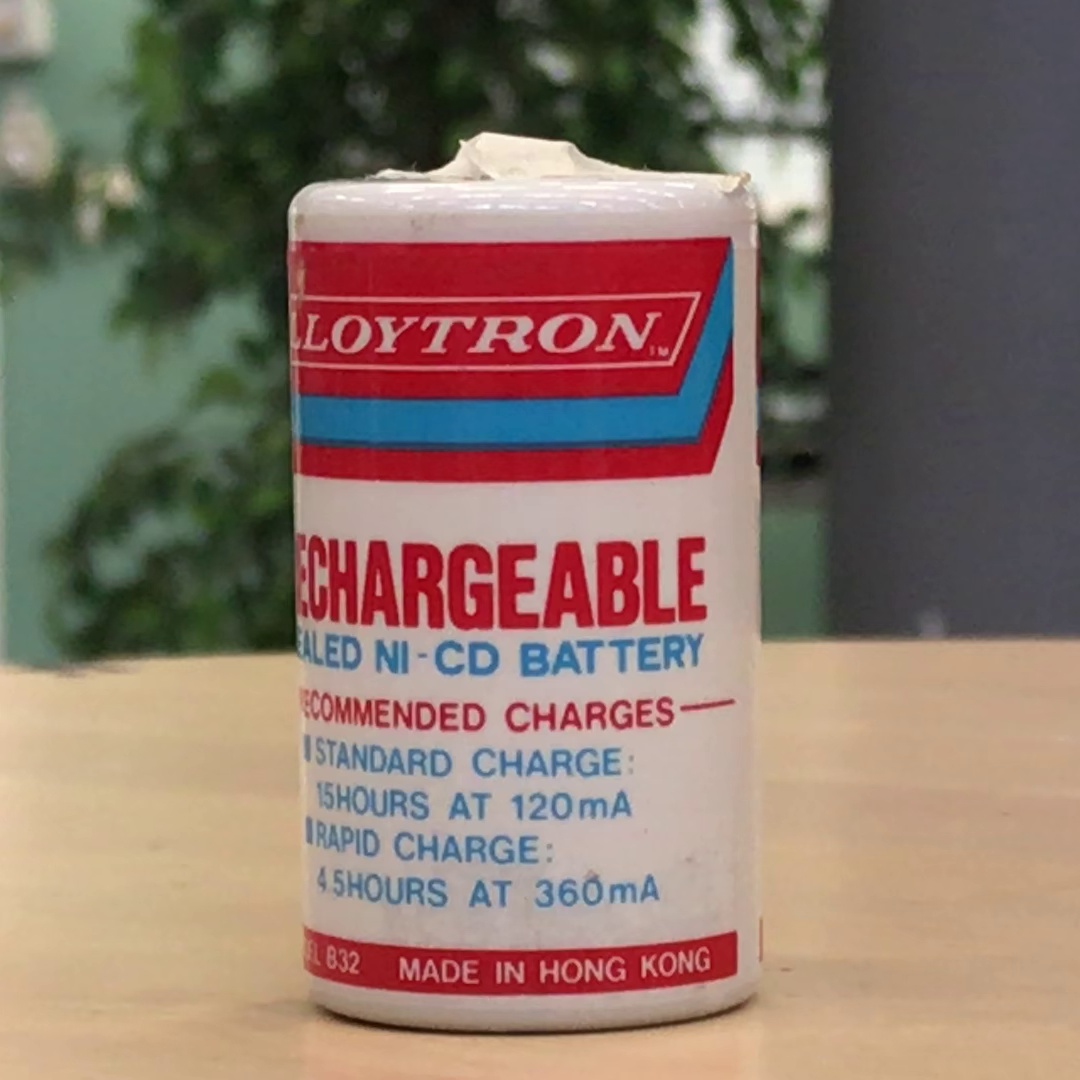keyword: (365, 632, 509, 684)
